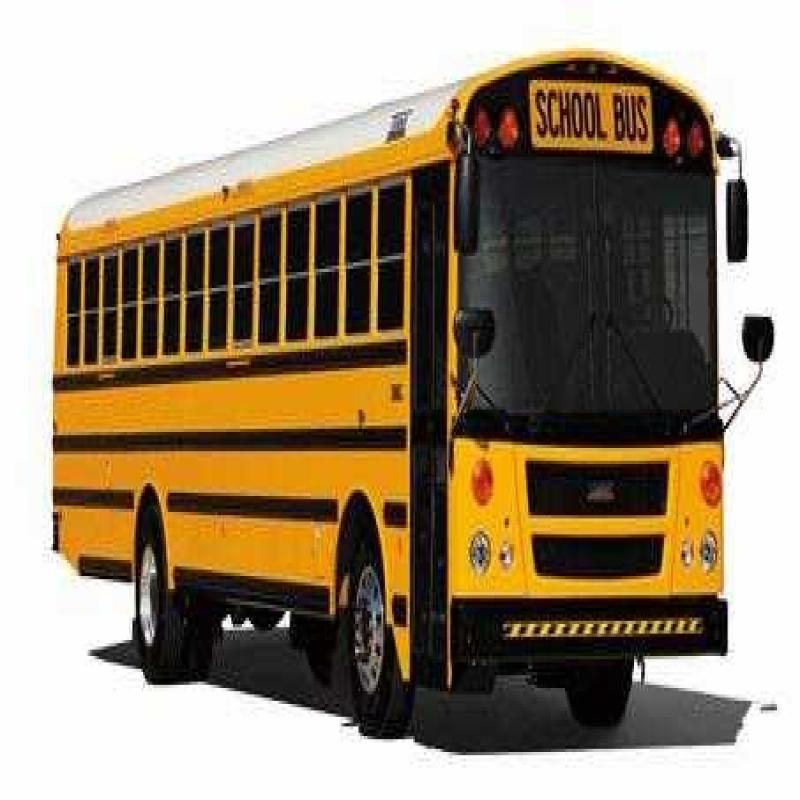bus: (58, 57, 776, 746)
